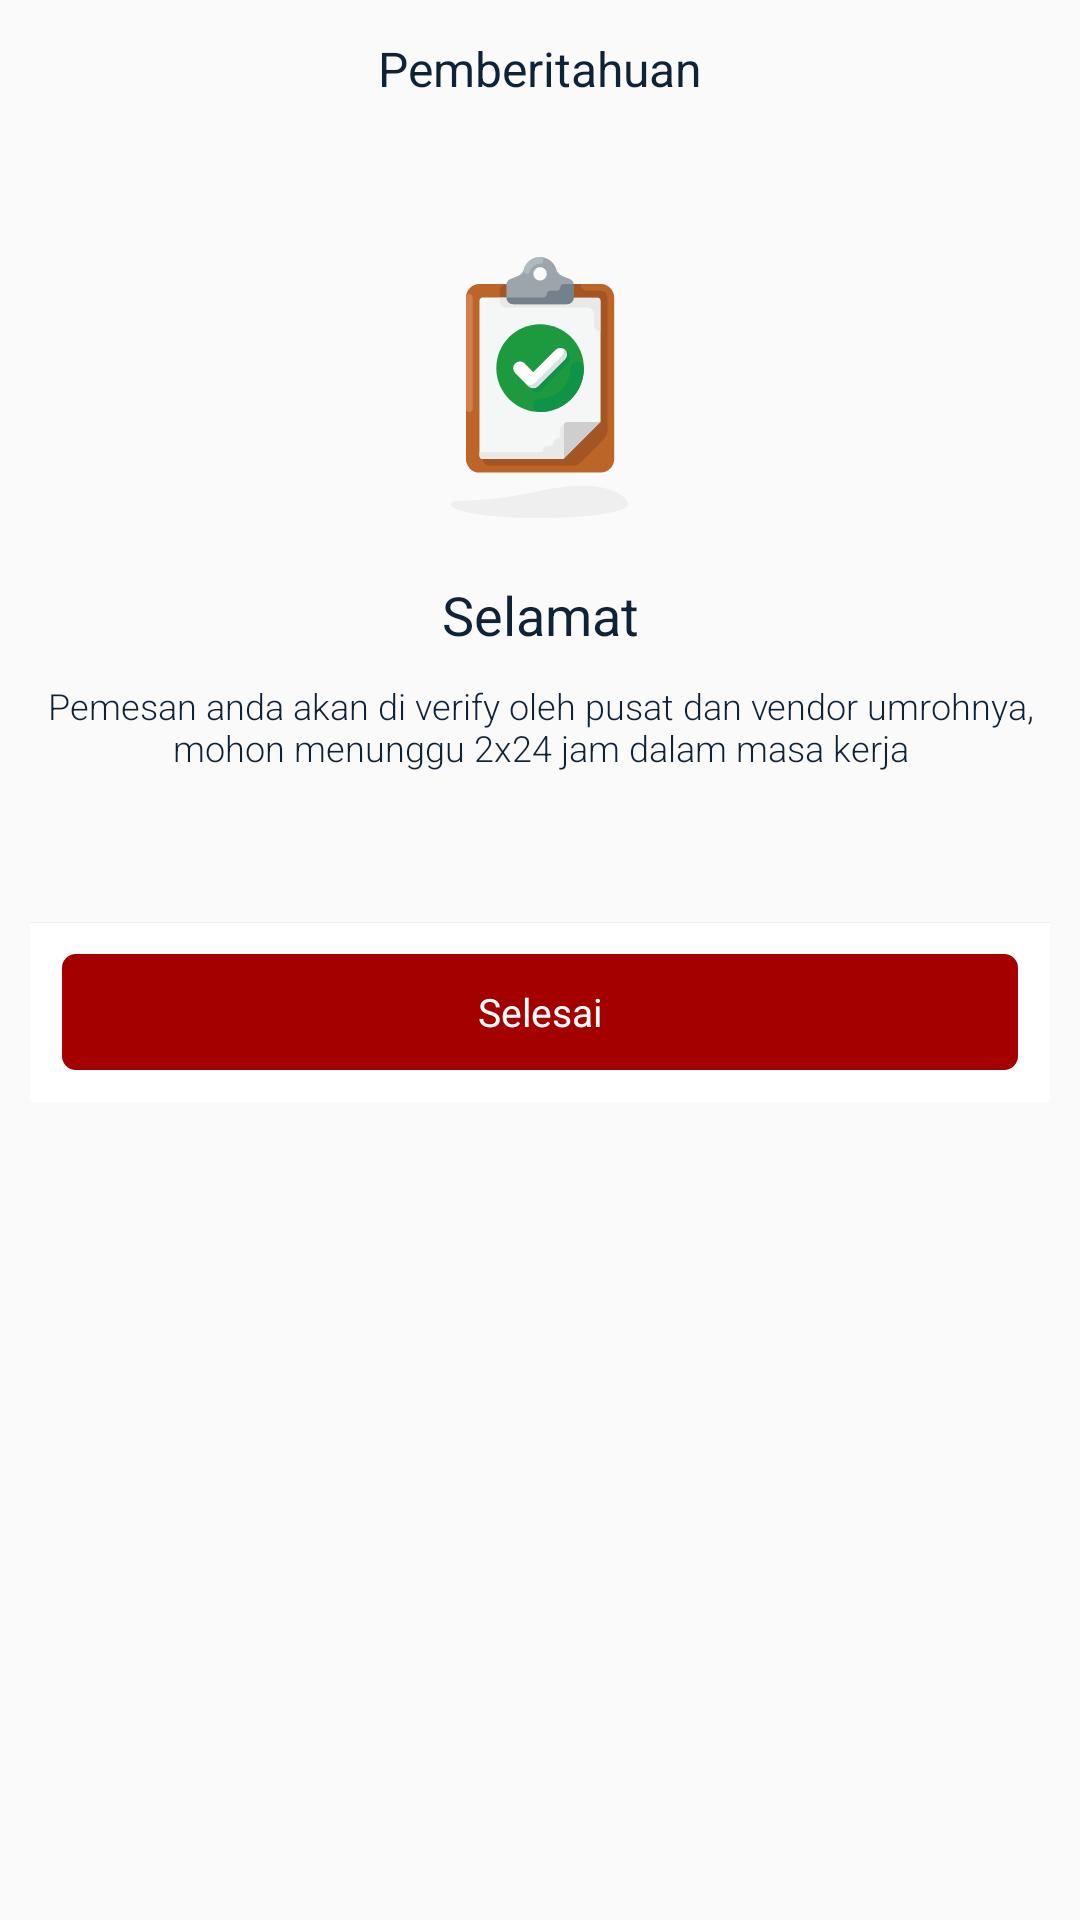

Point at icon controls on the screen. Image size 1080×1920, points as point (x, y).
succes unggah: point (540, 365)
